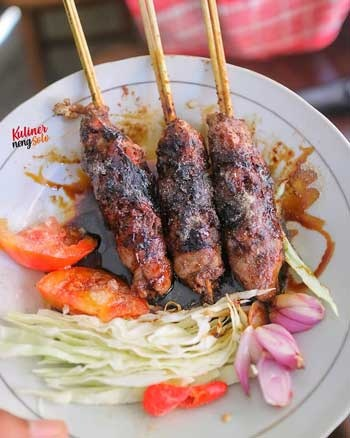sate: (63, 0, 281, 300)
